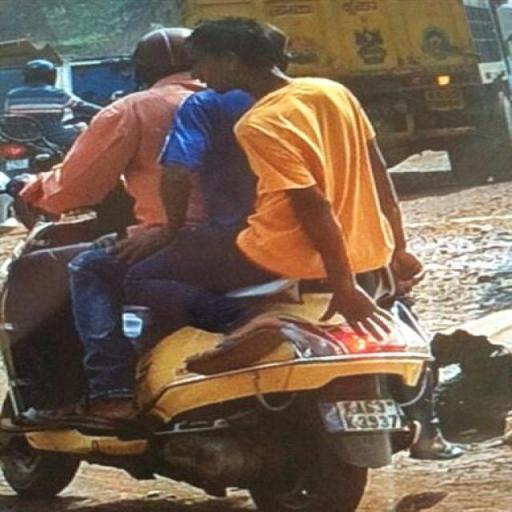tripple riding: (4, 14, 429, 324)
